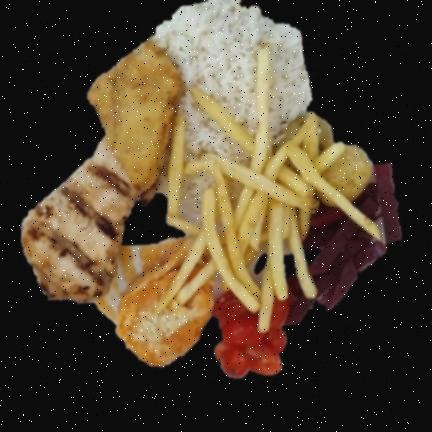beet: (304, 165, 401, 309), (288, 278, 314, 324)
chicken: (22, 41, 184, 303)
potato: (158, 46, 382, 332)
rice: (153, 0, 312, 145), (180, 93, 251, 163), (181, 177, 211, 223)
tomato: (213, 293, 290, 378)
